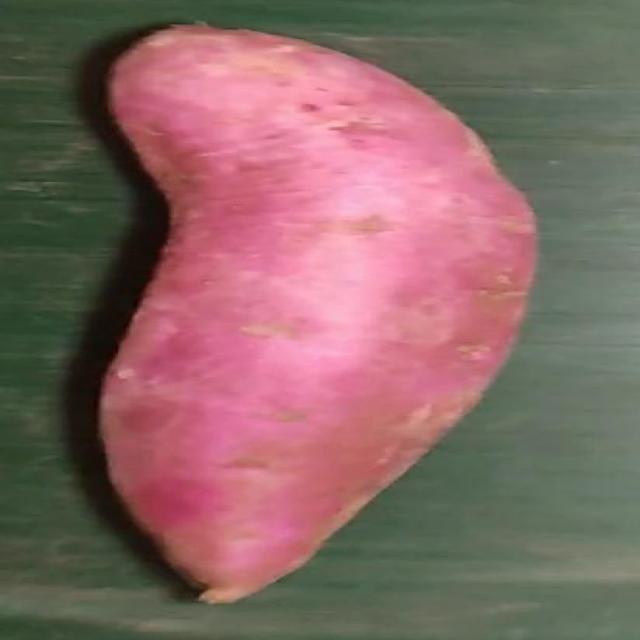Sweet Potato: (97, 22, 539, 608)
